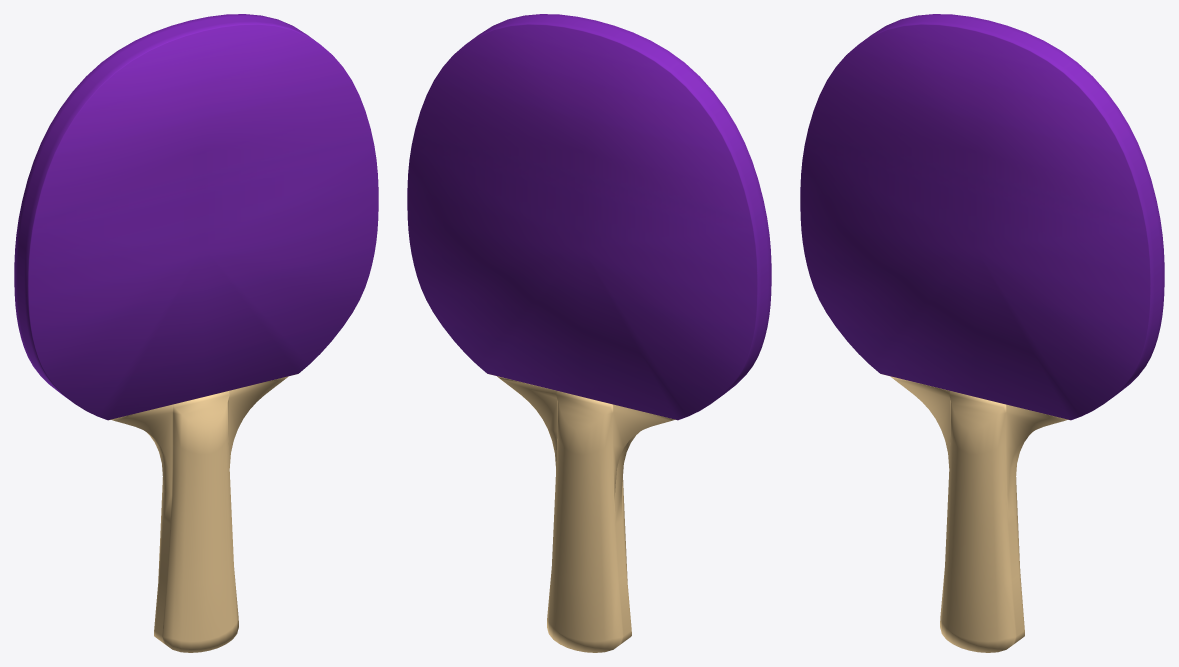
File: _PingPongMasters_purplepaddle.fbx
3 views of the same model, side by side, from view 1: azimuth 30°, elevation 25°; view 2: azimuth 150°, elevation 25°; view 3: azimuth 330°, elevation 25° (orthographic).
Parts seen in each view (by area): view 1: purplepaddle; view 2: purplepaddle; view 3: purplepaddle.
Part boxes in pixels (x1,y1,x2,y2): purplepaddle: (14, 14, 378, 652); purplepaddle: (407, 14, 771, 652); purplepaddle: (800, 14, 1164, 652).
Size of the model in its own units: 0.0741 by 0.0101 by 0.1242.
2 materials, 1 textured.
